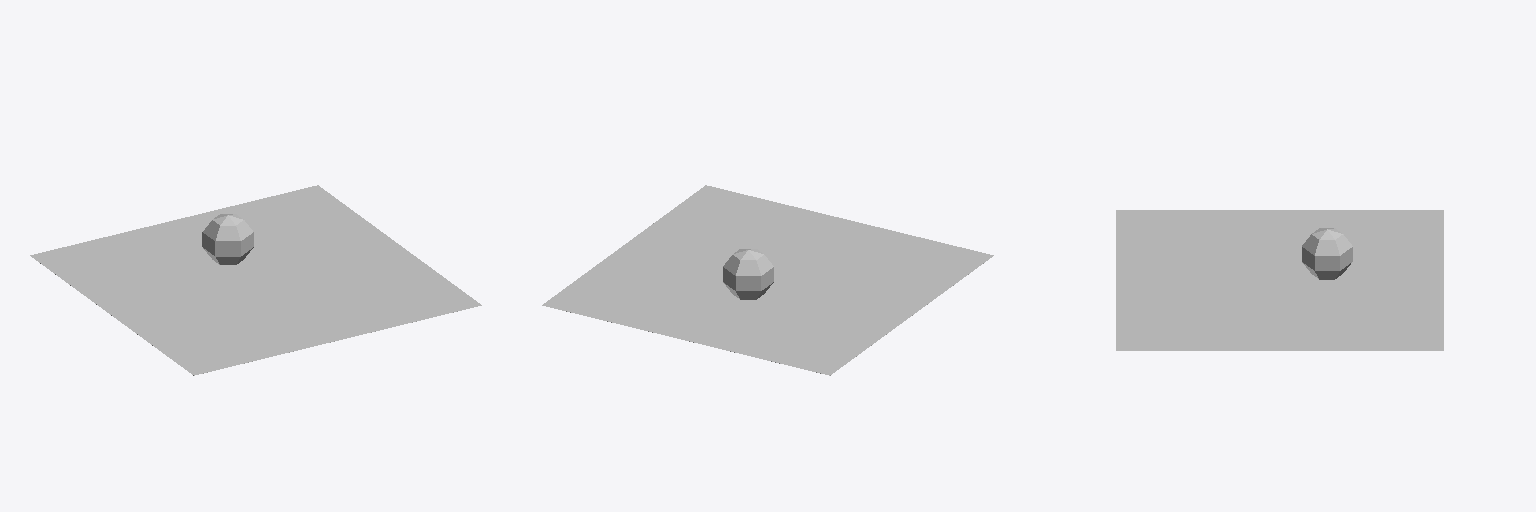
Rendered from smooth_grain4.obj.
3 renders of one model, left to right at view 1: azimuth 30°, elevation 25°; view 2: azimuth 150°, elevation 25°; view 3: azimuth 270°, elevation 25°, orthographic.
Parts seen in each view (by area): view 1: Cube.003, Sphere.001; view 2: Cube.003, Sphere.001; view 3: Cube.003, Sphere.001.
Part boxes in pixels (bbox=[...]): Cube.003: bbox=[30, 185, 481, 375]; Sphere.001: bbox=[202, 214, 253, 264]; Cube.003: bbox=[542, 185, 993, 375]; Sphere.001: bbox=[723, 249, 773, 299]; Cube.003: bbox=[1116, 210, 1443, 350]; Sphere.001: bbox=[1302, 228, 1352, 279].
Bounding box in the file's own units: 29.49 × 4.79 × 29.09.